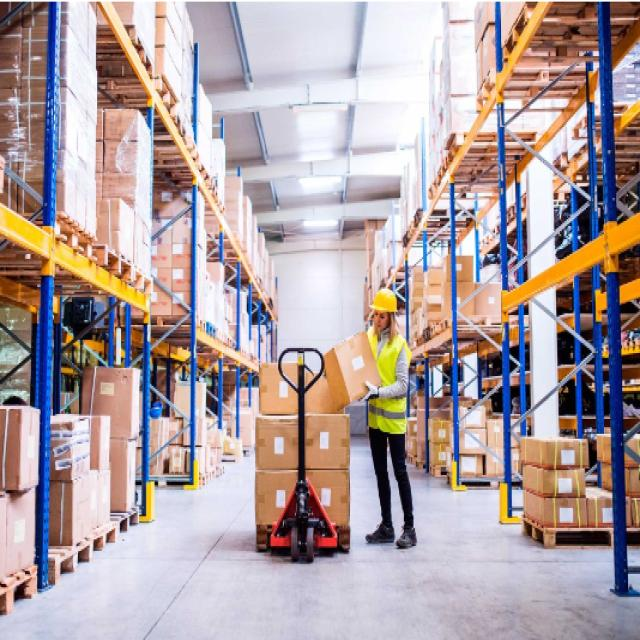boots: (361, 516, 420, 552)
helmet: (370, 287, 399, 336)
vest: (358, 329, 414, 439)
